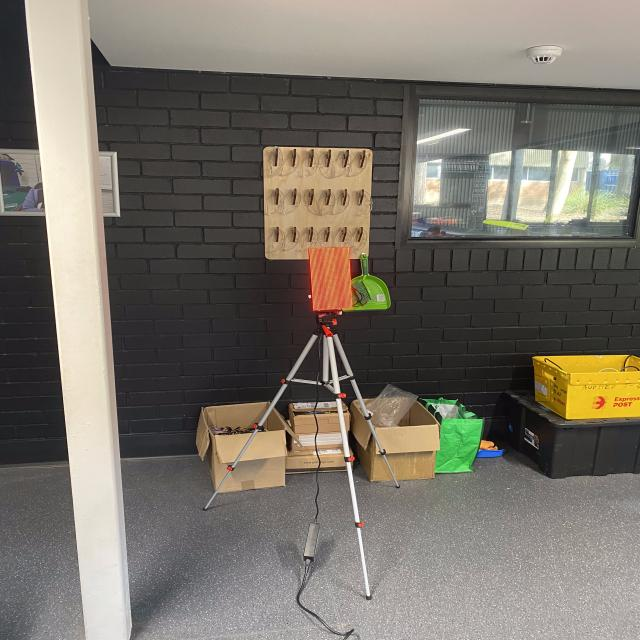matrix: (303, 244, 362, 315)
